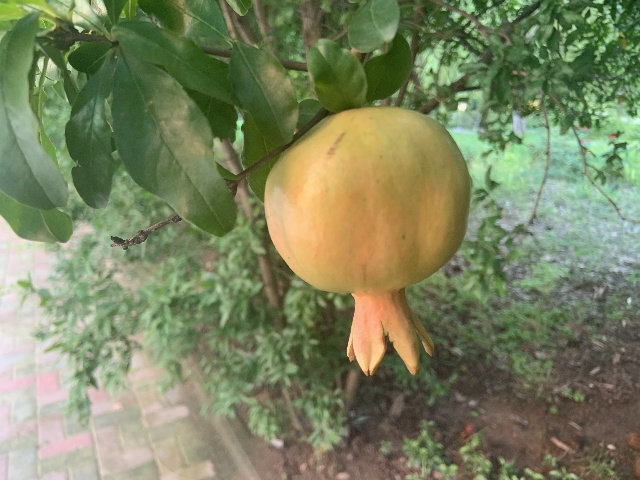mid-growth: (263, 106, 472, 377)
